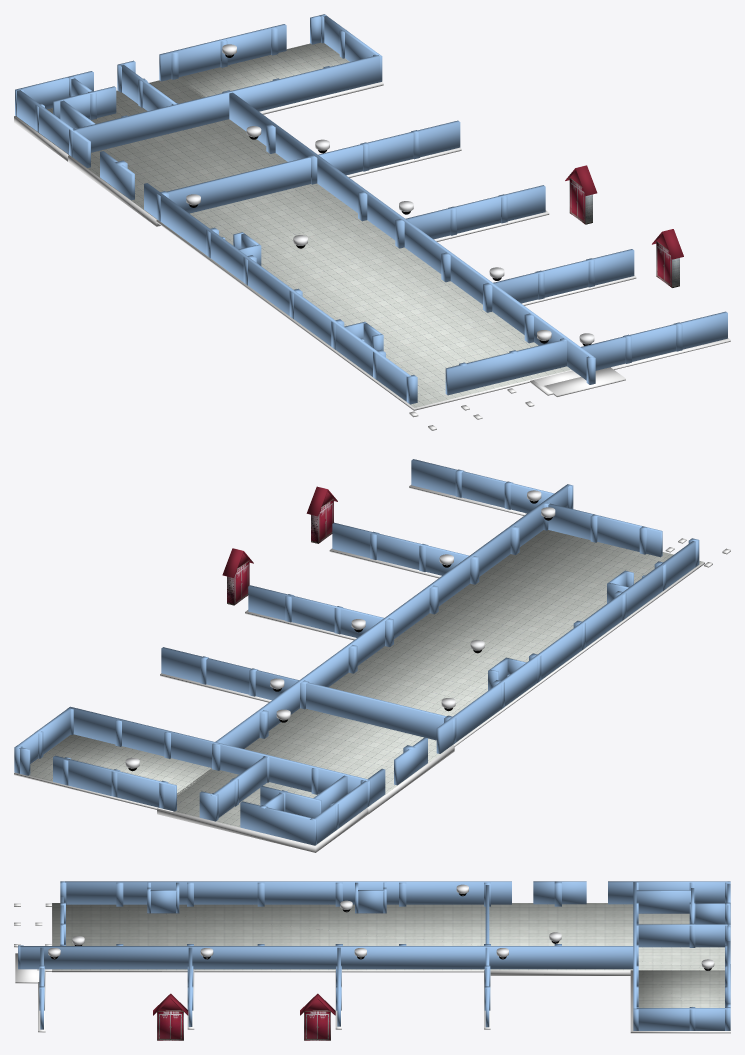
File: ts_1f_mini.gltf
3 renders of one model, top to bottom at view 1: azimuth 30°, elevation 25°; view 2: azimuth 150°, elevation 25°; view 3: azimuth 270°, elevation 25°, orthographic. The views are drawn at different scales.
Parts seen in each view (by area): view 1: ts_dimian_1f, ts_qiang_1f, ts_qiang_1f_2, ts_qiang_1f_1, ts_qiang_1f_3, ts_qiang_1f_6, ts_qiang_1f_32, ts_qiang_1f_5, ts_qiang_1f_4, ts_qiang_1f_9, ts_qiang_1f_14, ts_waiguan_1f_4 (+9 smaller); view 2: ts_dimian_1f, ts_qiang_1f, ts_qiang_1f_1, ts_qiang_1f_3, ts_qiang_1f_2, ts_qiang_1f_6, ts_qiang_1f_9, ts_qiang_1f_5, ts_qiang_1f_4, ts_qiang_1f_32, ts_qiang_1f_11, ts_qiang_1f_14 (+9 smaller); view 3: ts_dimian_1f, ts_qiang_1f, ts_qiang_1f_1, ts_qiang_1f_13, ts_qiang_1f_12, ts_qiang_1f_14, ts_waiguan_1f_4, ts_qiang_1f_30, ts_qiang_1f_53, ts_waiguan_1f_3, ts_waiguan_1f_11, ts_waiguan_1f_20 (+10 smaller).
Boxes of the visible parts, box(x1,y1,x2,y2) form: ts_dimian_1f: box(16, 42, 571, 407); ts_qiang_1f: box(229, 92, 593, 380); ts_qiang_1f_2: box(73, 55, 380, 152); ts_qiang_1f_1: box(144, 183, 410, 401); ts_qiang_1f_3: box(166, 120, 460, 213); ts_qiang_1f_6: box(581, 311, 727, 370); ts_qiang_1f_32: box(445, 340, 566, 395); ts_qiang_1f_5: box(493, 249, 634, 303); ts_qiang_1f_4: box(405, 185, 545, 239); ts_qiang_1f_9: box(159, 24, 286, 81); ts_qiang_1f_14: box(17, 90, 90, 167); ts_waiguan_1f_4: box(156, 220, 572, 410); ts_dimian_1f: box(28, 530, 703, 845); ts_qiang_1f: box(215, 485, 569, 748); ts_qiang_1f_1: box(436, 541, 695, 753); ts_qiang_1f_3: box(161, 647, 446, 740); ts_qiang_1f_2: box(70, 707, 368, 793); ts_qiang_1f_6: box(411, 459, 554, 513); ts_qiang_1f_9: box(53, 755, 176, 811); ts_qiang_1f_5: box(332, 522, 468, 575); ts_qiang_1f_4: box(248, 585, 383, 637); ts_qiang_1f_32: box(548, 503, 662, 557); ts_qiang_1f_11: box(240, 801, 316, 845); ts_qiang_1f_14: box(313, 768, 385, 843); ts_dimian_1f: box(52, 903, 724, 1007); ts_qiang_1f: box(20, 946, 633, 969); ts_qiang_1f_1: box(65, 881, 511, 904); ts_qiang_1f_13: box(636, 924, 727, 947); ts_qiang_1f_12: box(633, 1008, 726, 1030); ts_qiang_1f_14: box(608, 881, 727, 904); ts_waiguan_1f_4: box(52, 903, 483, 972); ts_qiang_1f_30: box(636, 890, 690, 913); ts_qiang_1f_53: box(533, 881, 586, 904); ts_waiguan_1f_3: box(490, 970, 630, 975); ts_waiguan_1f_11: box(157, 1010, 183, 1040); ts_waiguan_1f_20: box(304, 1010, 330, 1040).
Bounding box in the file's own units: 28.91 × 4.54 × 63.41.
Materials: 15 (12 with a texture image).
